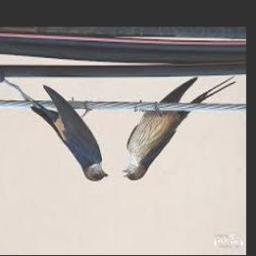Swallow: (123, 78, 237, 180), (4, 79, 109, 182)
